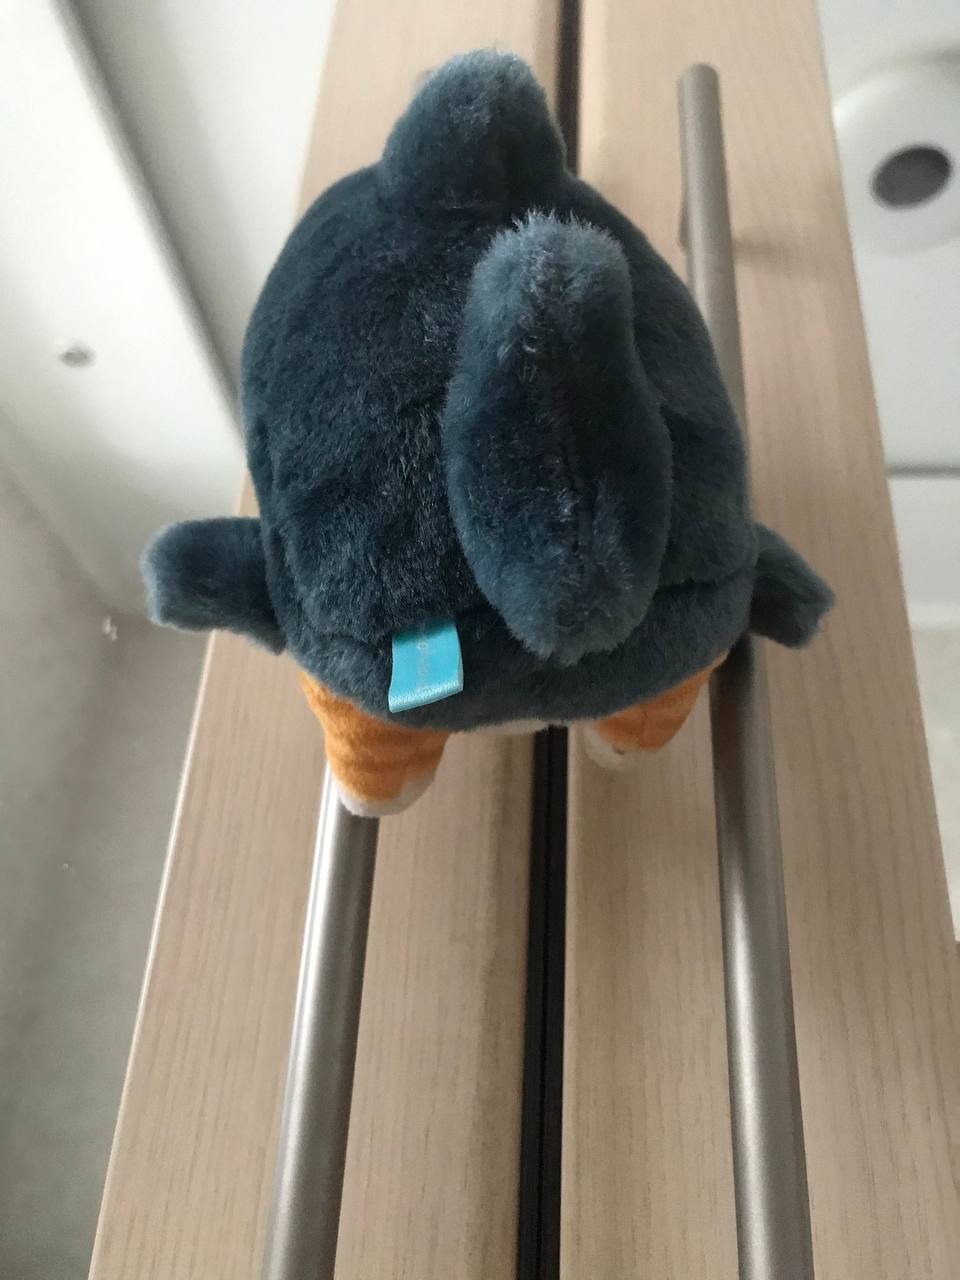cat_shark: (137, 45, 843, 822)
